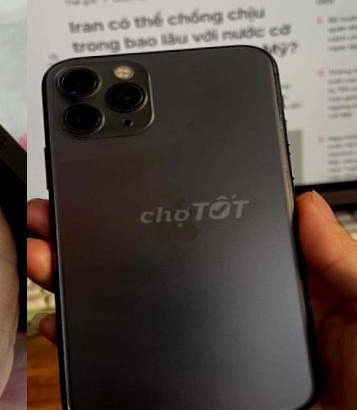scratch: (54, 59, 151, 133), (270, 54, 296, 193)
